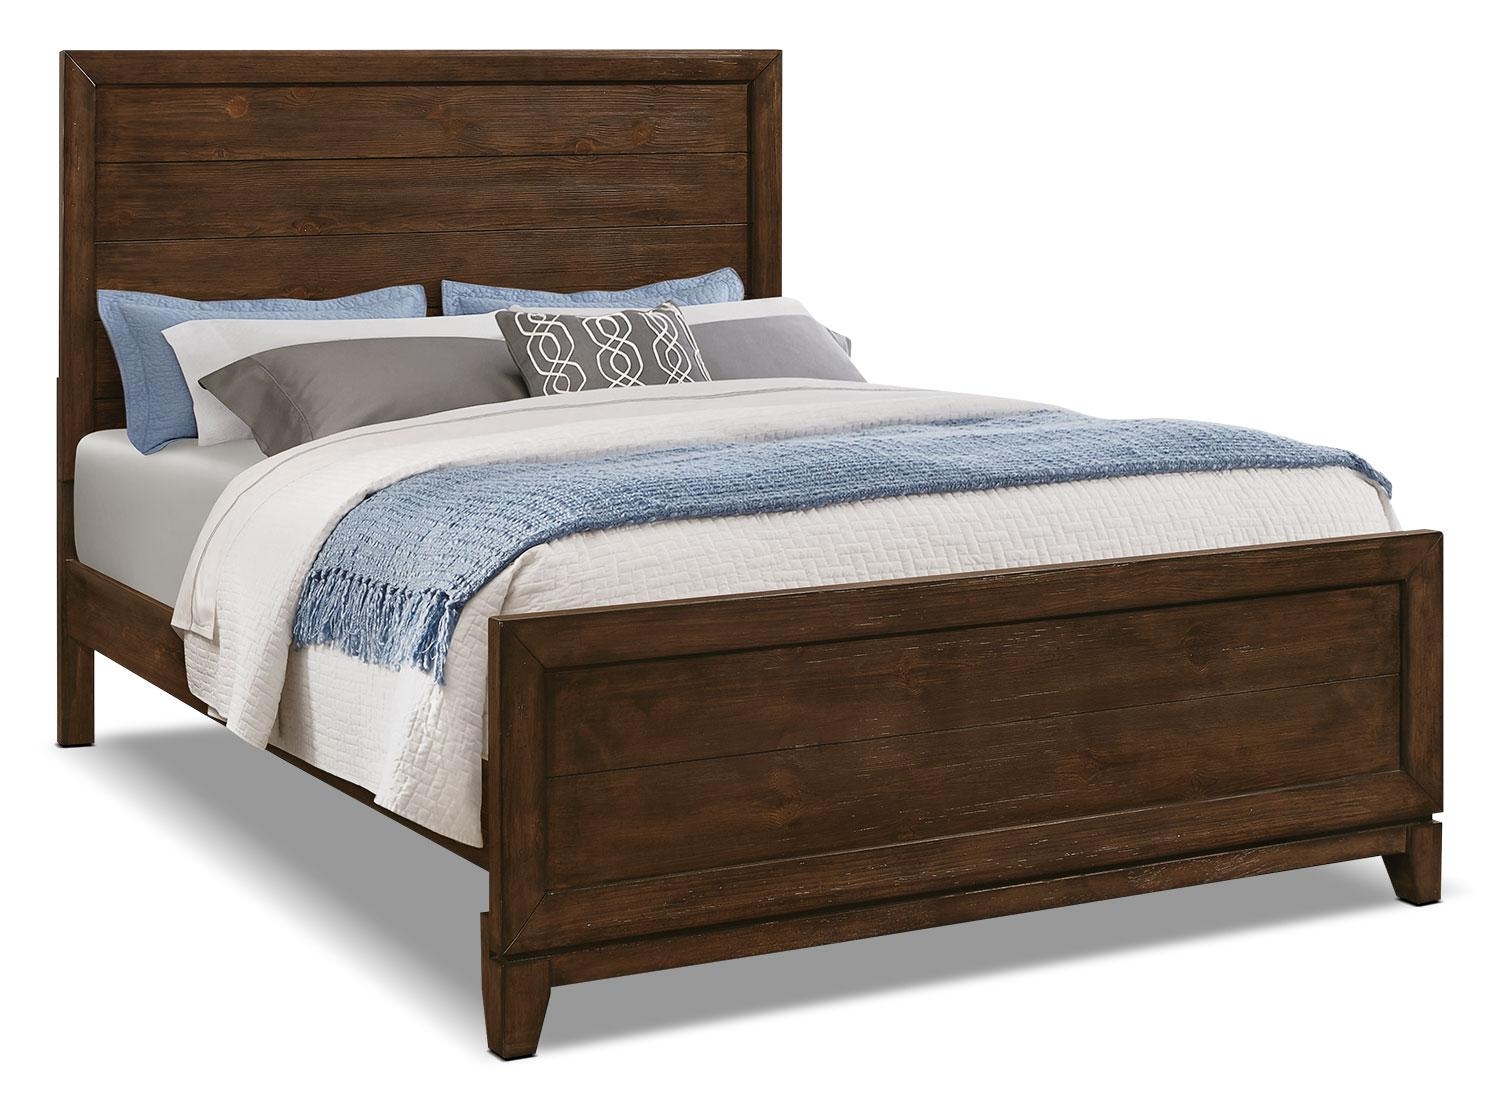bed: (51, 43, 1465, 1093)
